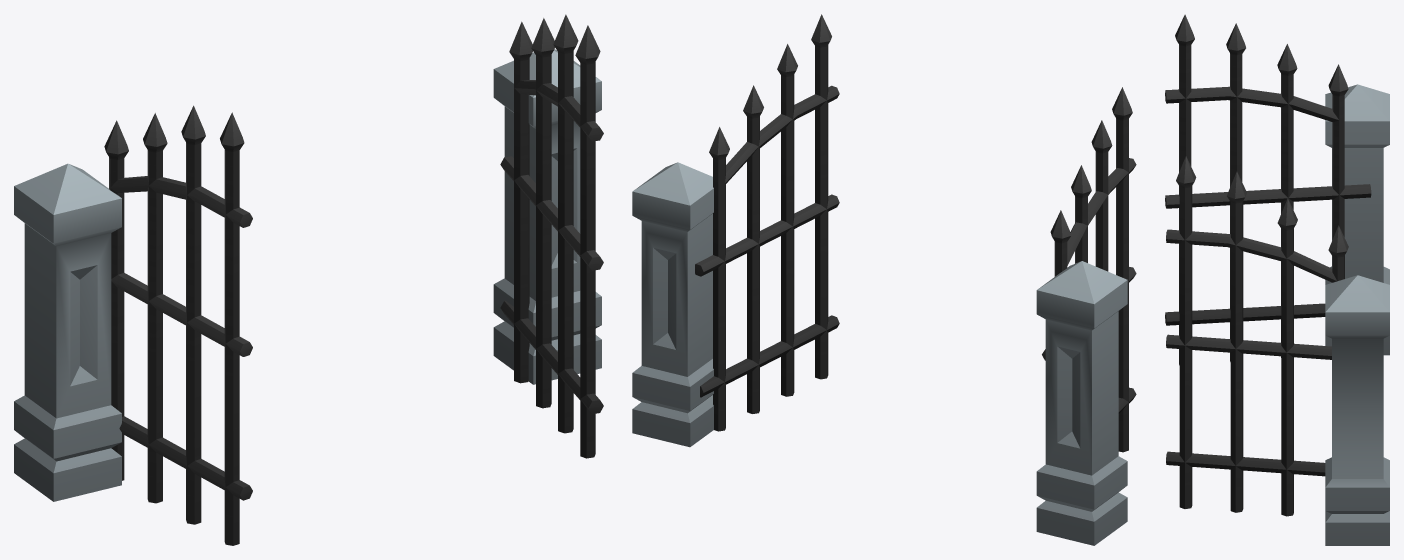
Rendered from Gate.gltf.
3 renders of one model, left to right at view 1: azimuth 30°, elevation 25°; view 2: azimuth 150°, elevation 25°; view 3: azimuth 270°, elevation 25°, orthographic. The views are drawn at different scales.
Parts seen in each view (by area): view 1: fence_gate.001, fence_gate_right, fence_gate_left, fence_gate.002; view 2: fence_gate_left, fence_gate.001, fence_gate.002, fence_gate_right; view 3: fence_gate_left, fence_gate.002, fence_gate_right, fence_gate.001.
Part boxes in pixels (x1,y1,x2,y2): fence_gate.001: (14, 163, 121, 501); fence_gate_right: (104, 105, 252, 545); fence_gate_left: (500, 14, 603, 458); fence_gate.002: (493, 49, 601, 384); fence_gate_left: (695, 14, 839, 431); fence_gate.001: (1036, 261, 1127, 545); fence_gate.002: (632, 162, 713, 447); fence_gate_right: (1042, 87, 1136, 452); fence_gate_left: (1166, 156, 1348, 516); fence_gate.002: (1325, 275, 1389, 545); fence_gate_right: (1165, 14, 1371, 365); fence_gate.001: (1325, 84, 1389, 355).
Size of the model in its own units: 4 by 3 by 1.74.
Materials: 1 (1 with a texture image).
